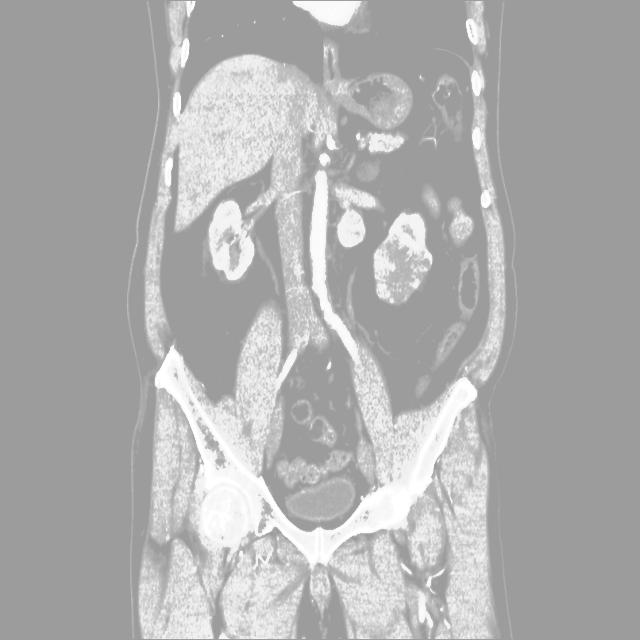TUMOR: (129, 143, 487, 325)
